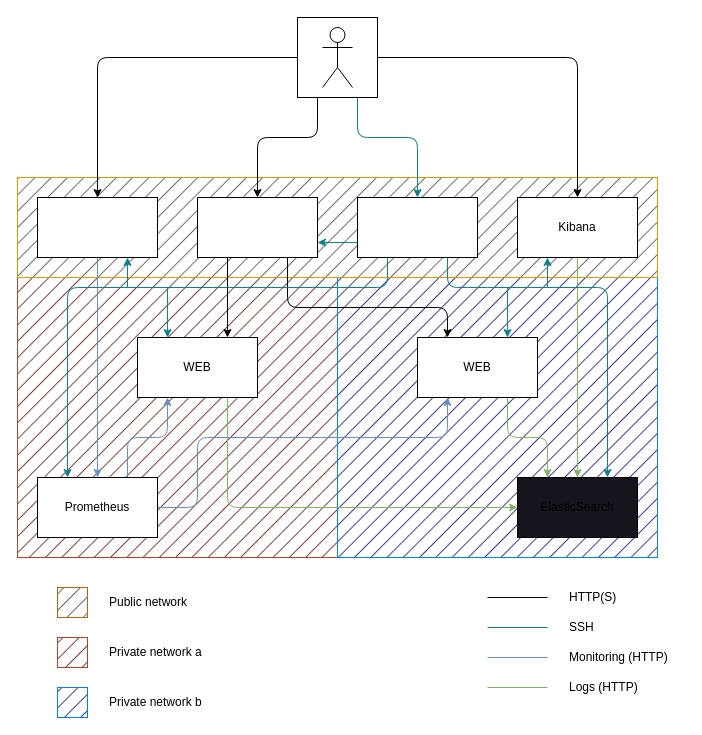
Image size: 702x735. Some labels were removed from this diagram. The shapes that lost their labels are listed below. From the top down, each one's centre as x and y in pixels, then its label:
point 97,227: Grafana
point 257,227: L7 LoadBalancer
point 417,227: Bastion
